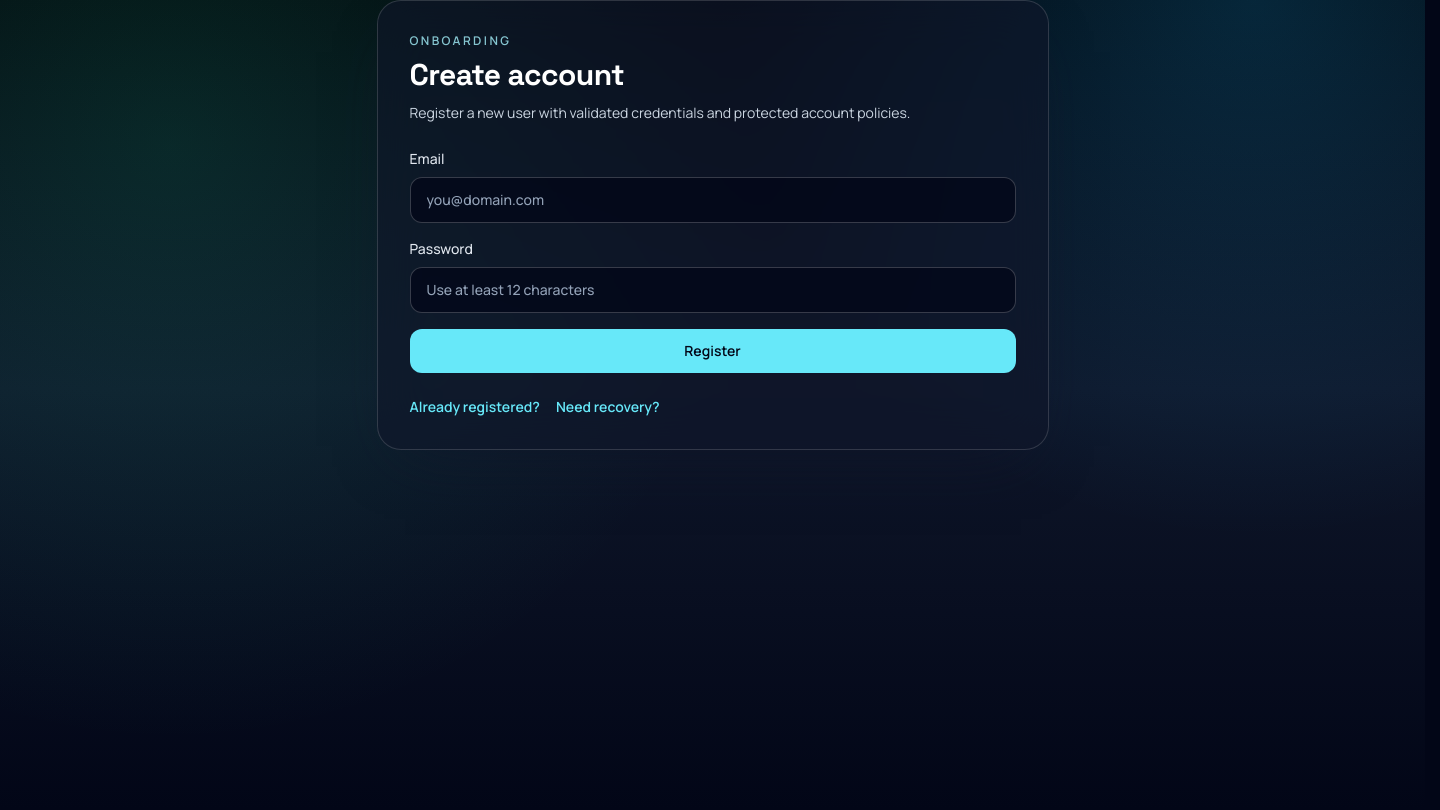
registration flow › shows success and duplicate error
Type "alice@example.com" into the field labelled "Email". click: (712, 200)
box: [410,177,1016,223]
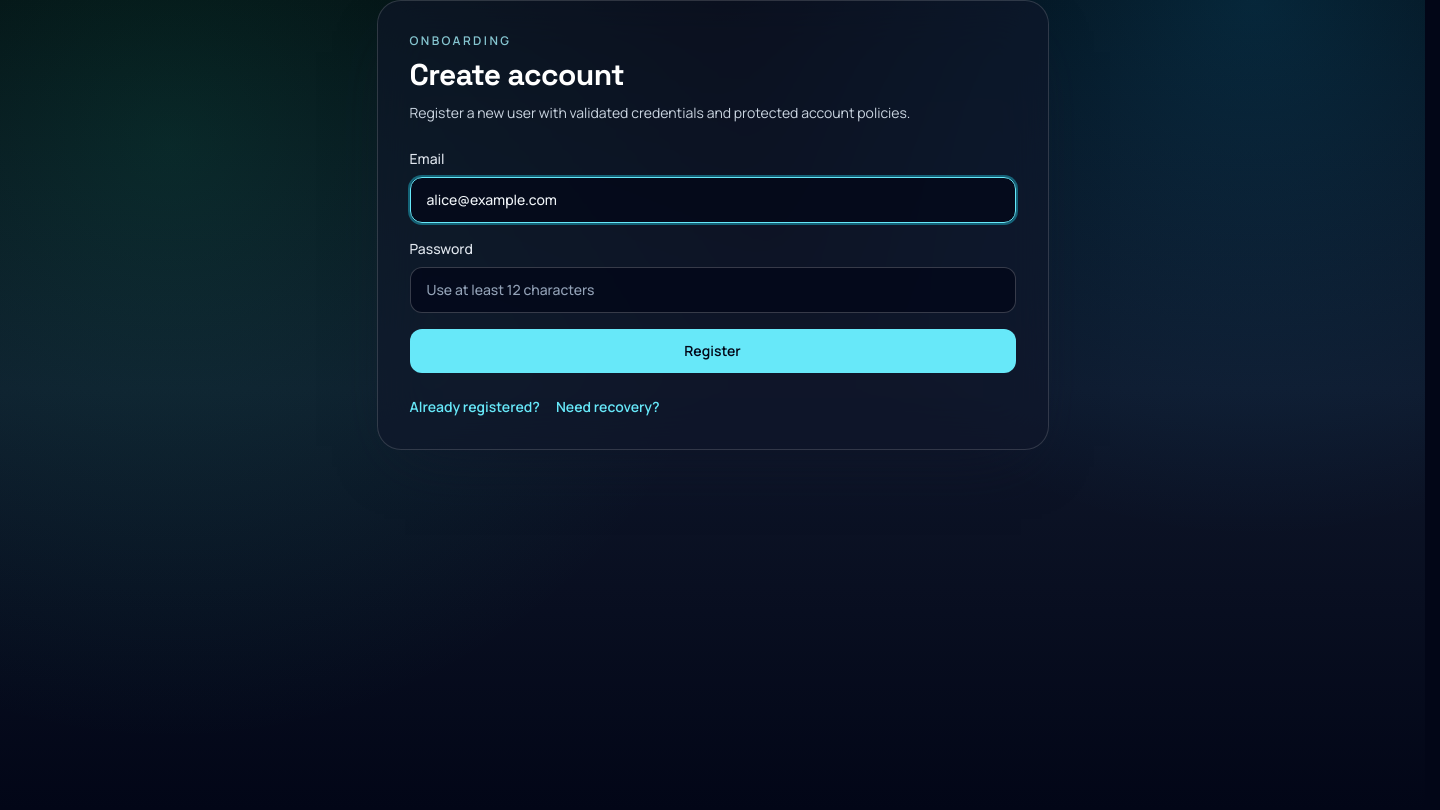
Type "StrongPass!234" into the password field labelled "Password". click: (712, 290)
box: [410,267,1016,313]
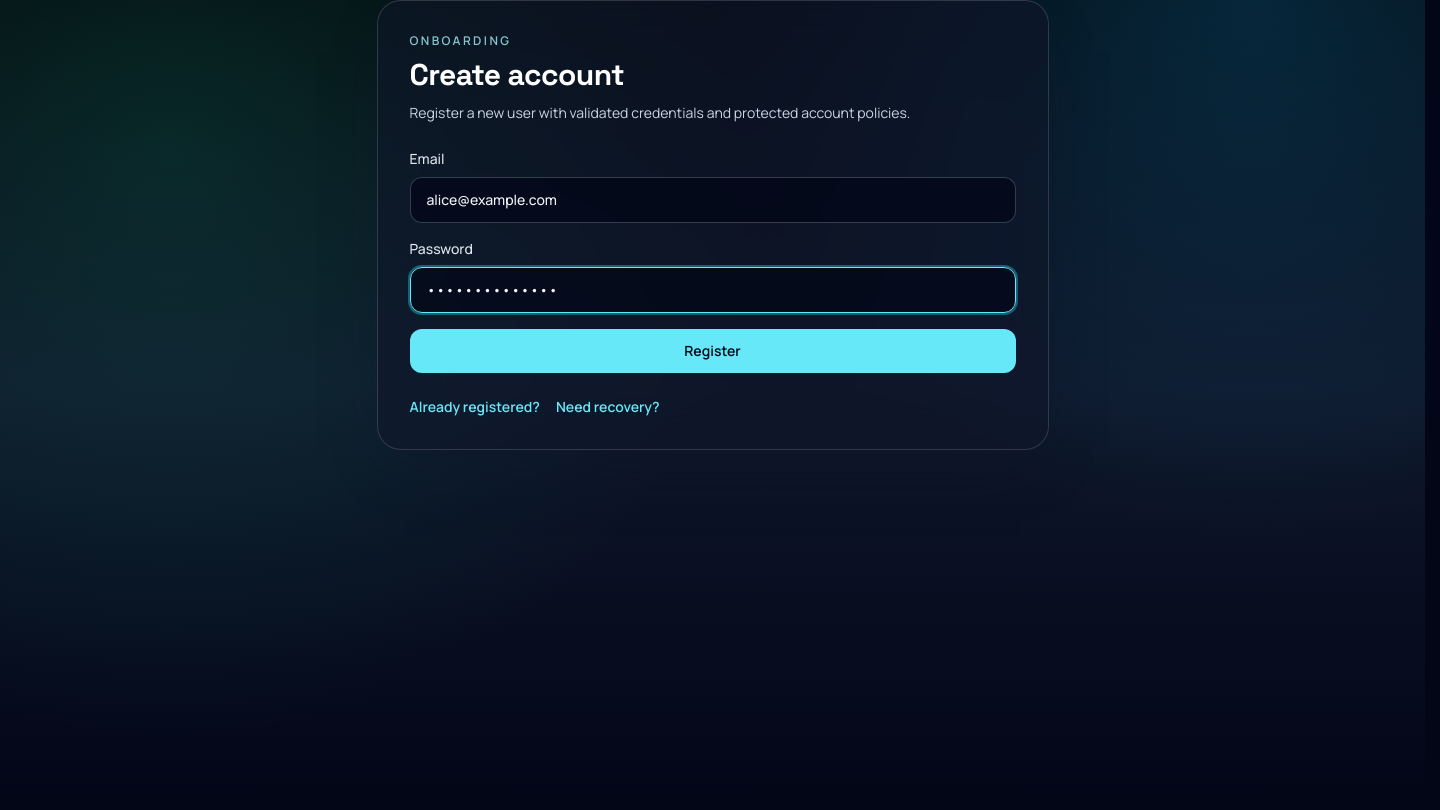
Click the button "Register". click: (712, 351)
box: [410,329,1016,373]
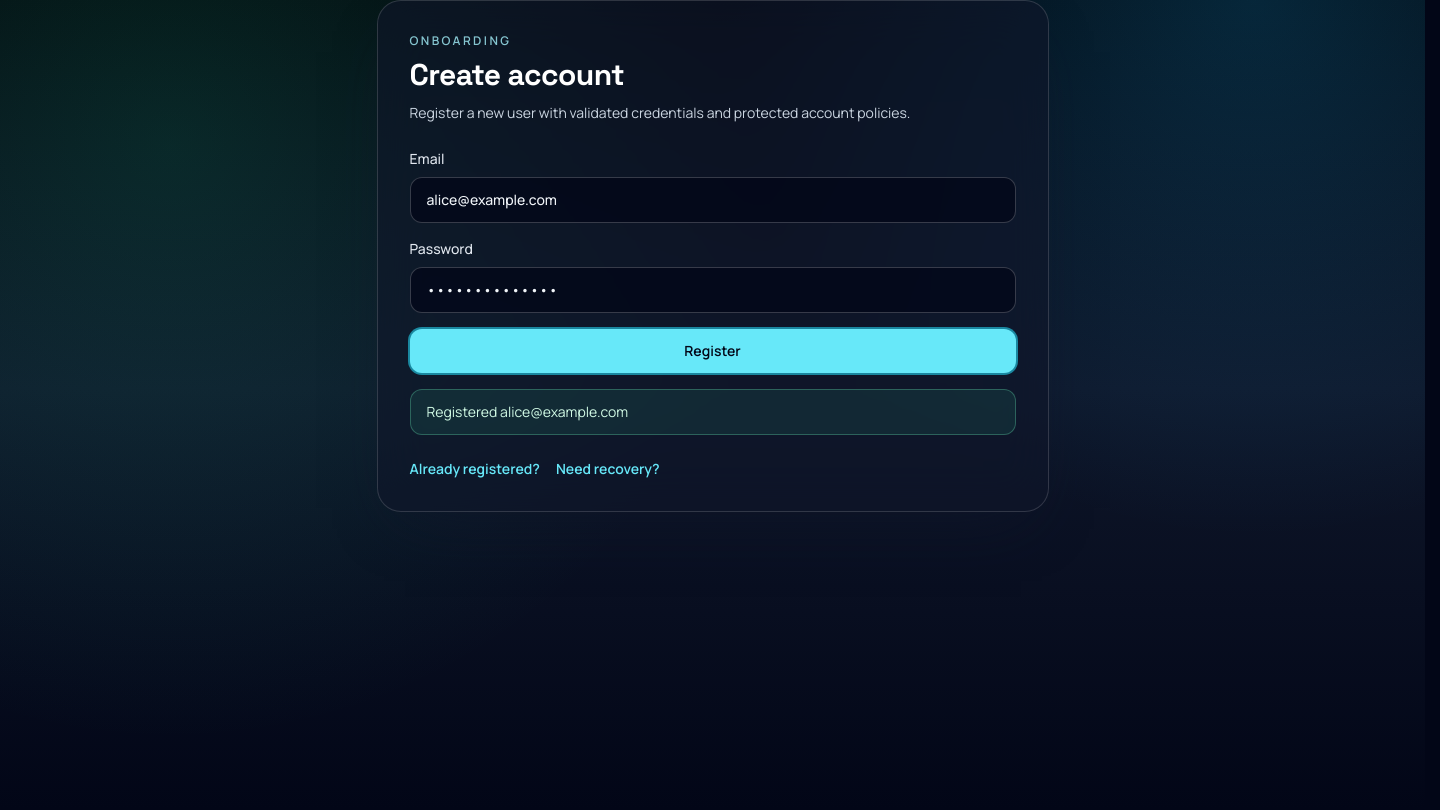
expect the message reads "Registered alice@example.com": met, box [426,402,628,421]
Click the button "Register". click: (712, 351)
box: [410,329,1016,373]
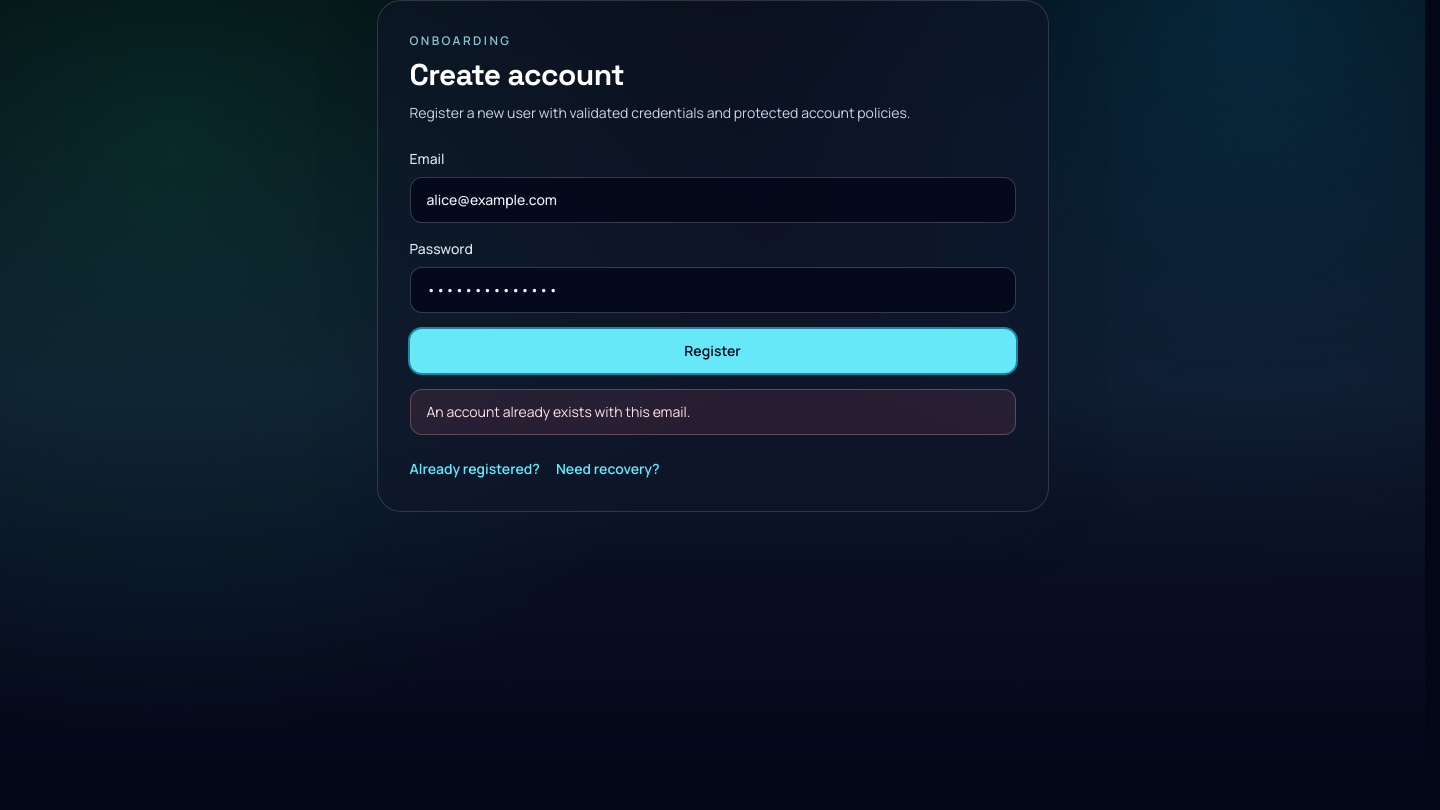
expect the message reads "An account already exists with this email.": met, box [426,402,690,421]
